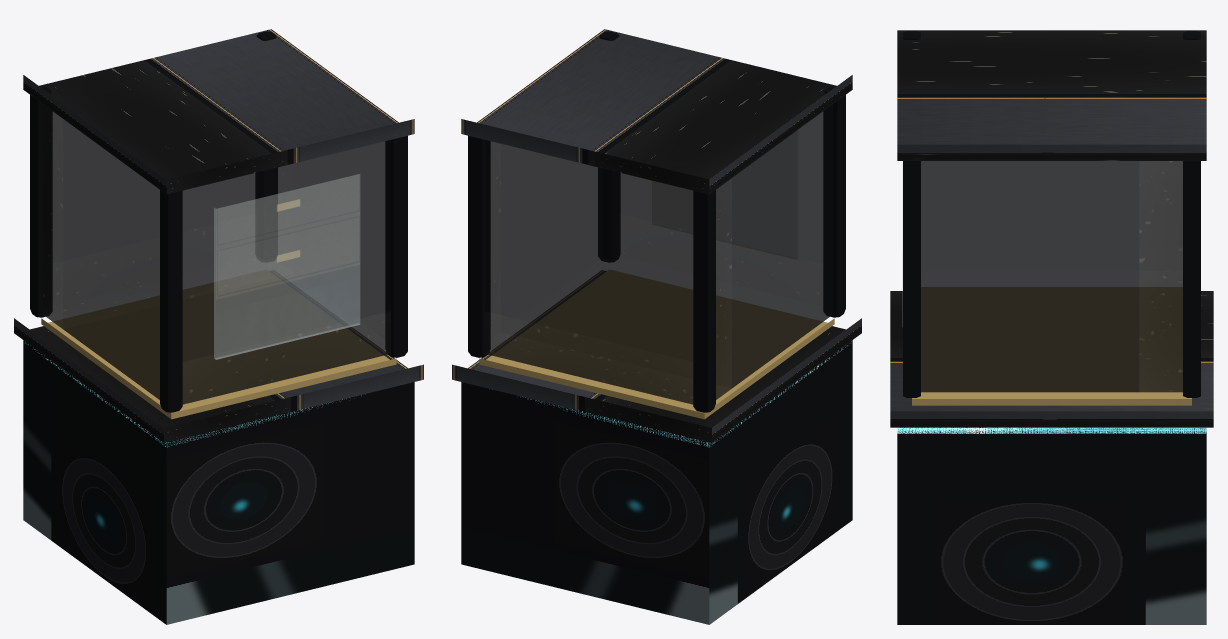
File: room_l3_img2_display_plinth.glb
The picture shows the model from 3 angles, left to right: view 1: azimuth 30°, elevation 25°; view 2: azimuth 150°, elevation 25°; view 3: azimuth 270°, elevation 25°; orthographic projection. The views are drawn at different scales.
Parts seen in each view (by area): view 1: plinth_base, vitrine_glass, vitrine_cap, front_glare, label_plate, brass_cap, post_1, post_0, post_3, post_2; view 2: plinth_base, vitrine_glass, vitrine_cap, label_plate, brass_cap, post_3, post_2, post_1, post_0; view 3: vitrine_glass, plinth_base, vitrine_cap, label_plate, brass_cap, post_0, post_2, scanner_ring.
Part boxes in pixels (bbox=[...]): plinth_base: bbox=[23, 340, 414, 624]; vitrine_glass: bbox=[42, 104, 390, 404]; vitrine_cap: bbox=[23, 29, 414, 194]; front_glare: bbox=[214, 174, 360, 359]; label_plate: bbox=[41, 283, 396, 419]; brass_cap: bbox=[14, 318, 423, 442]; post_1: bbox=[160, 190, 182, 412]; post_0: bbox=[385, 135, 407, 357]; post_3: bbox=[30, 86, 52, 317]; post_2: bbox=[256, 31, 277, 260]; plinth_base: bbox=[461, 340, 852, 624]; vitrine_glass: bbox=[485, 104, 833, 404]; vitrine_cap: bbox=[461, 29, 852, 194]; label_plate: bbox=[479, 270, 834, 419]; brass_cap: bbox=[452, 270, 861, 442]; post_3: bbox=[693, 190, 715, 412]; post_2: bbox=[468, 135, 490, 357]; post_1: bbox=[823, 86, 845, 317]; post_0: bbox=[598, 31, 619, 261]; vitrine_glass: bbox=[921, 161, 1182, 392]; plinth_base: bbox=[897, 427, 1206, 624]; vitrine_cap: bbox=[897, 30, 1206, 160]; label_plate: bbox=[912, 287, 1191, 405]; brass_cap: bbox=[890, 291, 1213, 427]; post_0: bbox=[903, 161, 920, 397]; post_2: bbox=[1183, 161, 1200, 397]; scanner_ring: bbox=[897, 427, 1206, 433].
Bounding box in the file's own units: 0.9 × 1.48 × 0.9.
6 materials, 6 textured.
